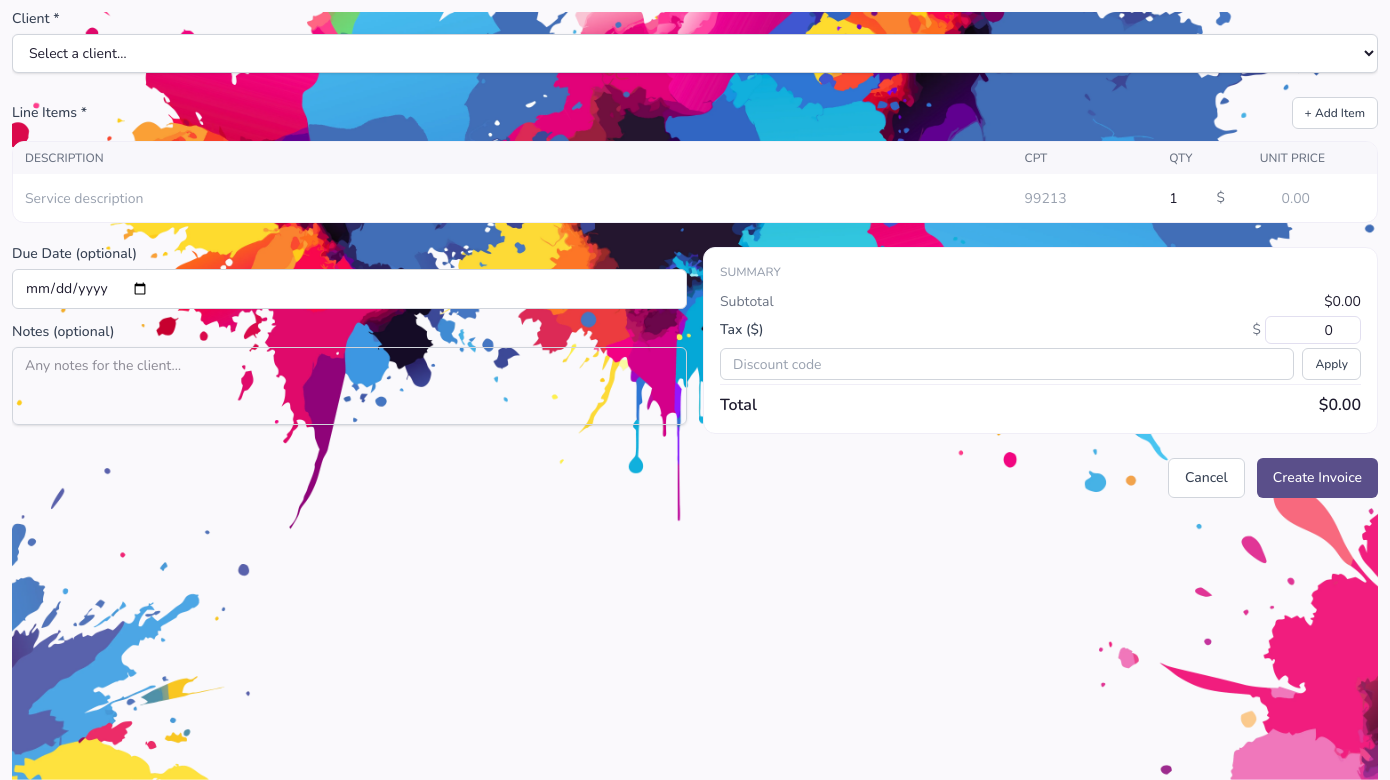
Test: NewInvoiceForm › line item management › adds a new line item when '+ Add Item' is clicked
Click the button "+ Add Item": (1335, 113) 1292,97 -> 1378,129
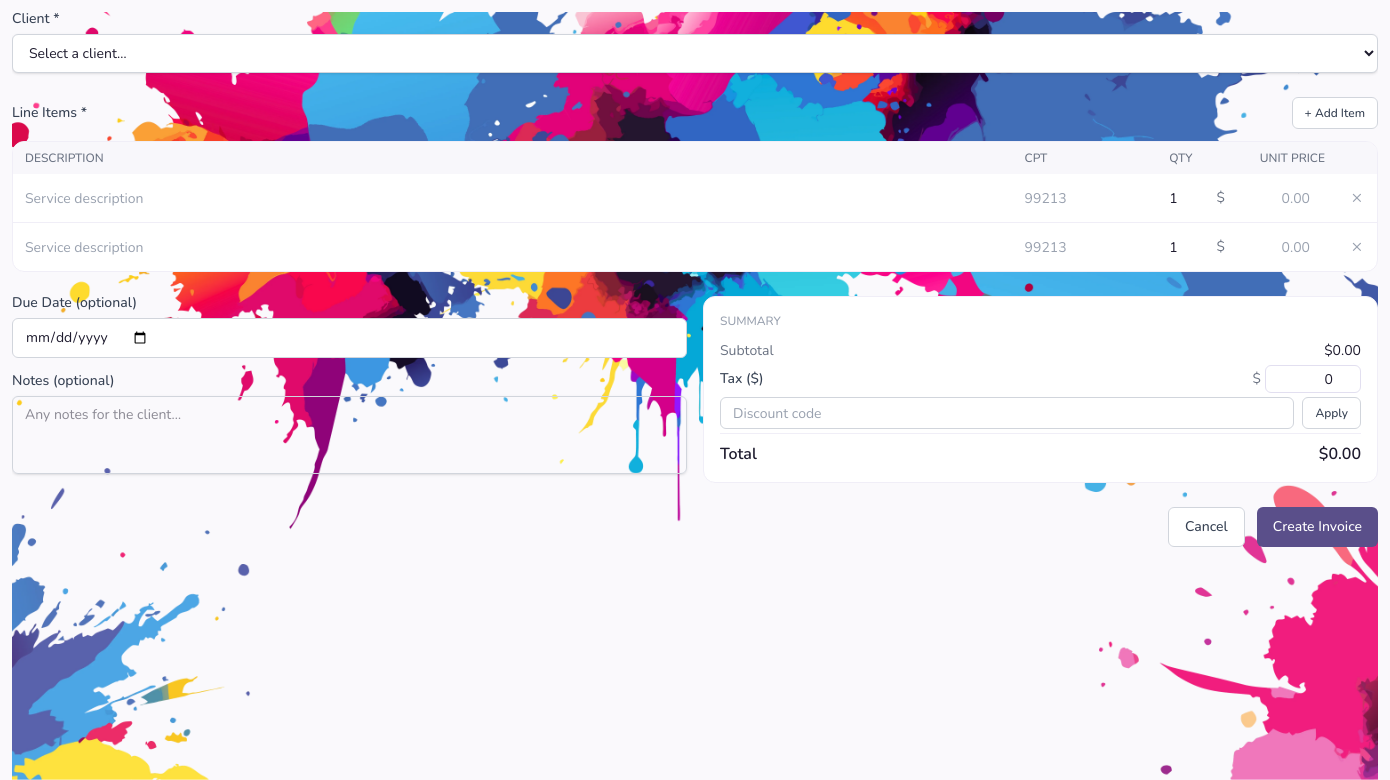
expect the number of fields labelled "Service description" is 2: met, box 25,182 -> 1001,214; 25,231 -> 1001,263
